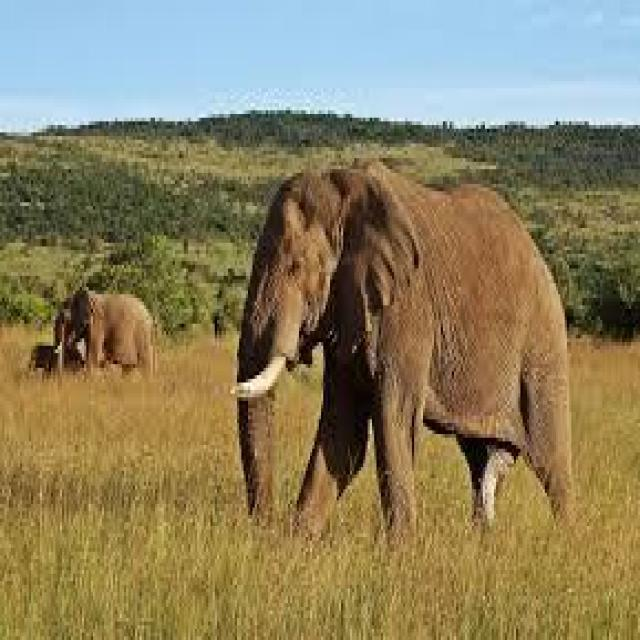Elephant: (232, 165, 574, 540)
